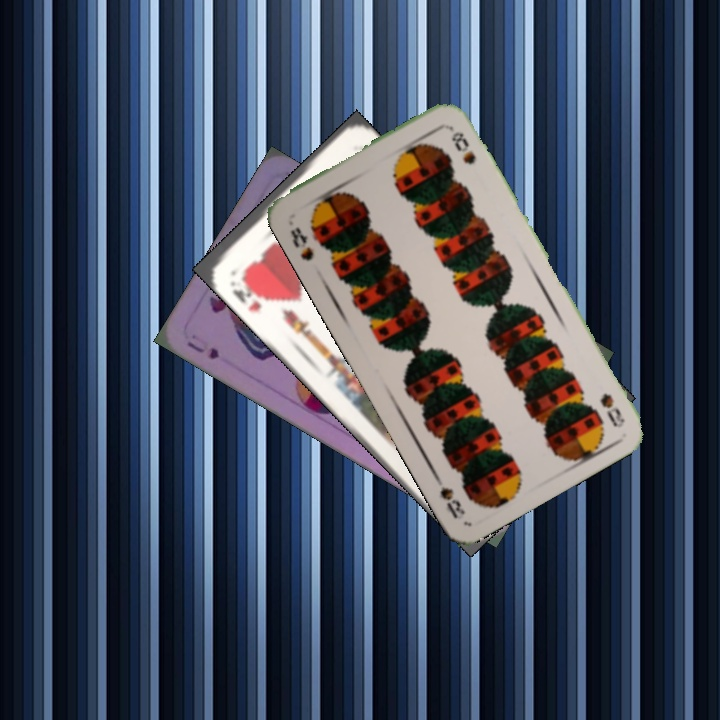HK: (225, 272, 270, 315)
S8: (596, 388, 628, 430), (286, 222, 317, 264)
SU: (183, 337, 223, 362)
